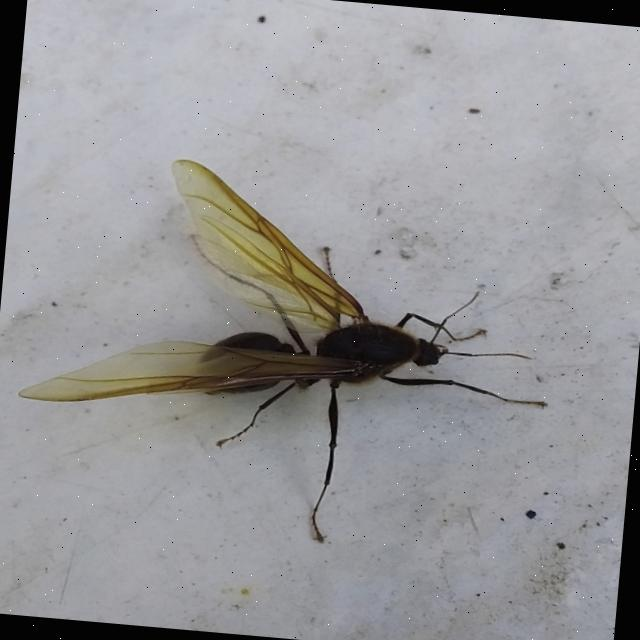Alive-Male-Alate: (7, 146, 567, 562)
